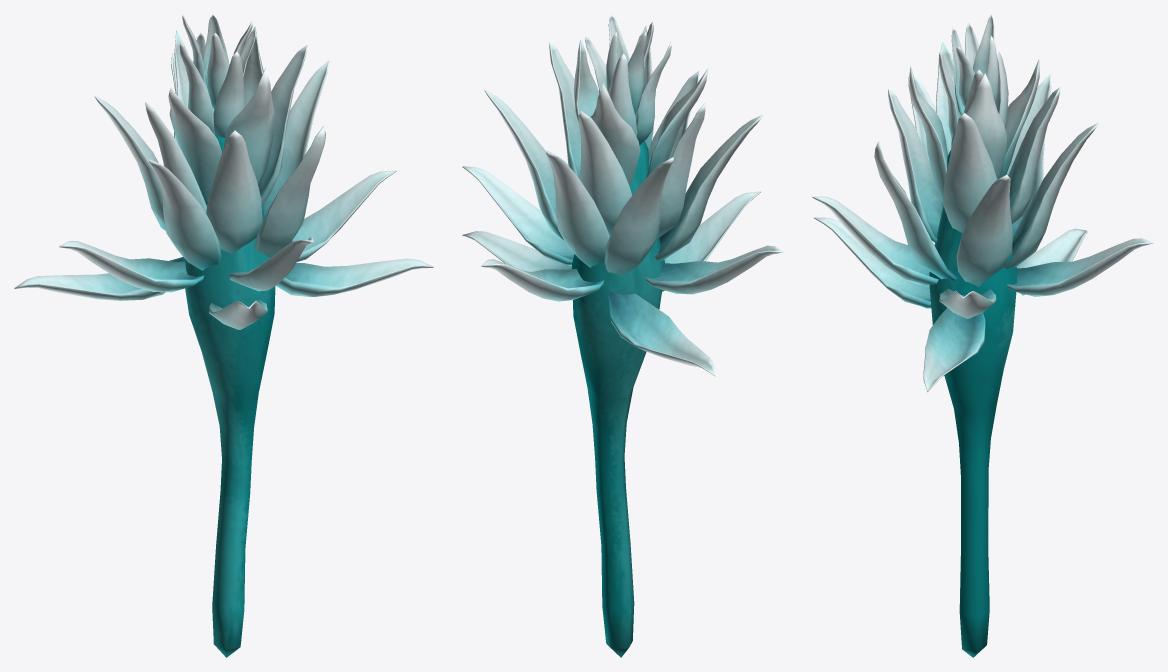
The model's file is Cartoon Seaweed_13-2-27.fbx.
The picture shows the model from 3 angles, left to right: view 1: azimuth 30°, elevation 25°; view 2: azimuth 150°, elevation 25°; view 3: azimuth 270°, elevation 25°; orthographic projection. The views are drawn at different scales.
Visible parts, largest first — view 1: Cartoon Seaweed_13.2.27; view 2: Cartoon Seaweed_13.2.27; view 3: Cartoon Seaweed_13.2.27.
Part boxes in pixels (box(x1,y1,x2,y2)): Cartoon Seaweed_13.2.27: box(14, 14, 433, 657); Cartoon Seaweed_13.2.27: box(462, 14, 783, 657); Cartoon Seaweed_13.2.27: box(812, 14, 1153, 657).
Size of the model in its own units: 12.38 by 21.88 by 10.79.
1 material, 1 textured.
